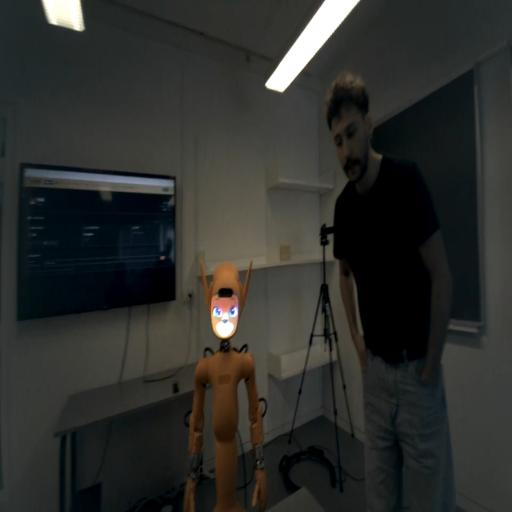Robot: (200, 258, 252, 342)
TV: (21, 175, 175, 317)
